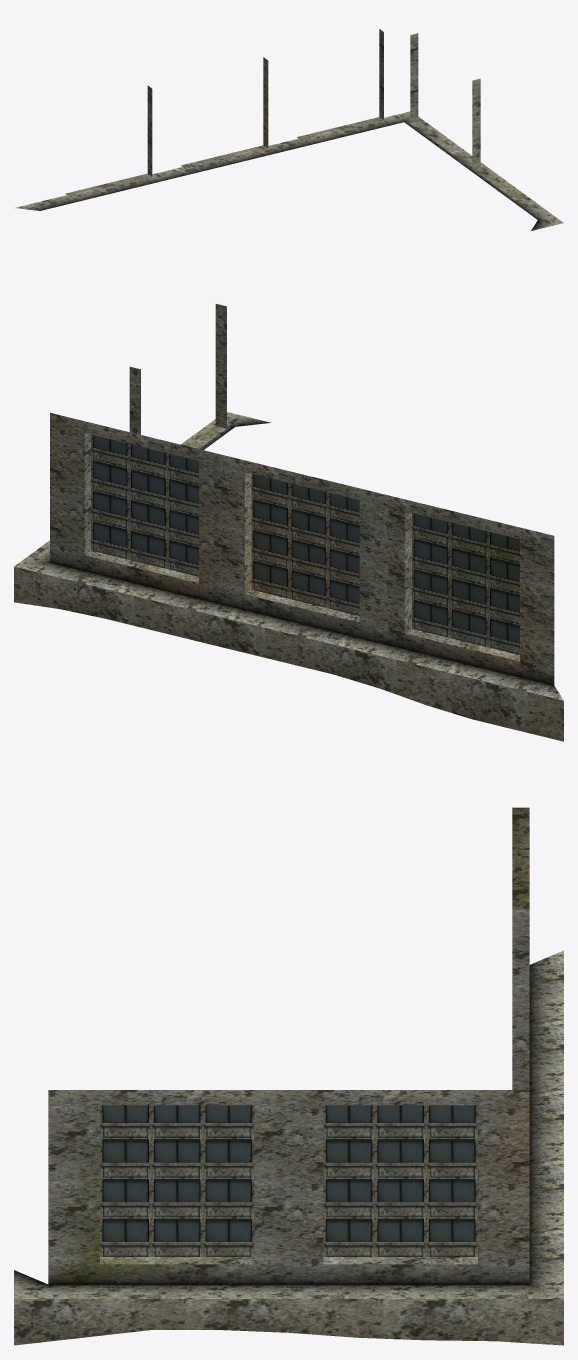
File: M10_Z02_09_TowerB.glb
3 renders of one model, top to bottom at view 1: azimuth 30°, elevation 25°; view 2: azimuth 150°, elevation 25°; view 3: azimuth 270°, elevation 25°, orthographic. The views are drawn at different scales.
Visible parts, largest first — view 1: M10_Z02_09_TOWERB; view 2: M10_Z02_09_TOWERB; view 3: M10_Z02_09_TOWERB.
Part boxes in pixels (x1,y1,x2,y2): M10_Z02_09_TOWERB: [15, 29, 563, 230]; M10_Z02_09_TOWERB: [14, 304, 563, 741]; M10_Z02_09_TOWERB: [14, 807, 563, 1345].
Bounding box in the file's own units: 48 × 15.9 × 32.
2 materials, 2 textured.
